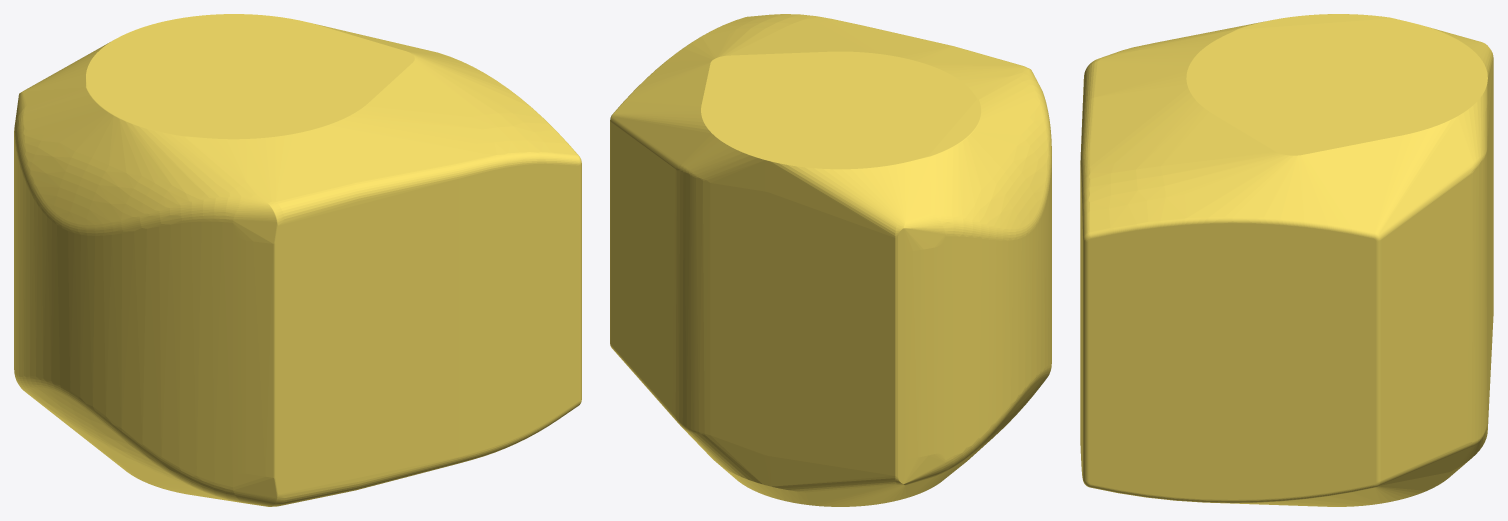
3 views of the same model, side by side, from view 1: azimuth 30°, elevation 25°; view 2: azimuth 150°, elevation 25°; view 3: azimuth 270°, elevation 25° (orthographic). The views are drawn at different scales.
Parts seen in each view (by area): view 1: link_3.stl; view 2: link_3.stl; view 3: link_3.stl.
Boxes of the visible parts, box(x1,y1,x2,y2) form: link_3.stl: box(14, 14, 581, 506); link_3.stl: box(610, 14, 1051, 506); link_3.stl: box(1080, 14, 1493, 506).
Bounding box in the file's own units: 0.1633 × 0.139 × 0.1384.
